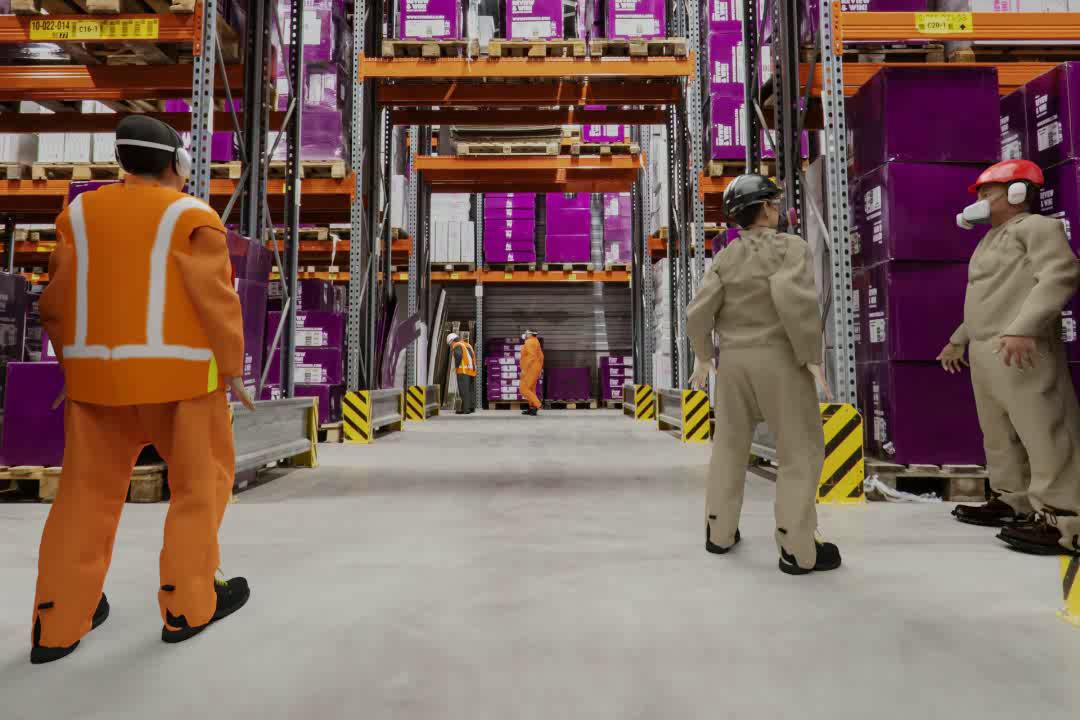Helmet: (721, 170, 789, 207), (968, 157, 1045, 189), (445, 333, 457, 342)
Jacket: (62, 187, 211, 401), (450, 342, 476, 373)
Shoes: (23, 588, 112, 667), (160, 573, 253, 647), (999, 518, 1079, 560), (952, 491, 1027, 523), (780, 537, 843, 575), (521, 410, 539, 415), (456, 409, 470, 414)
